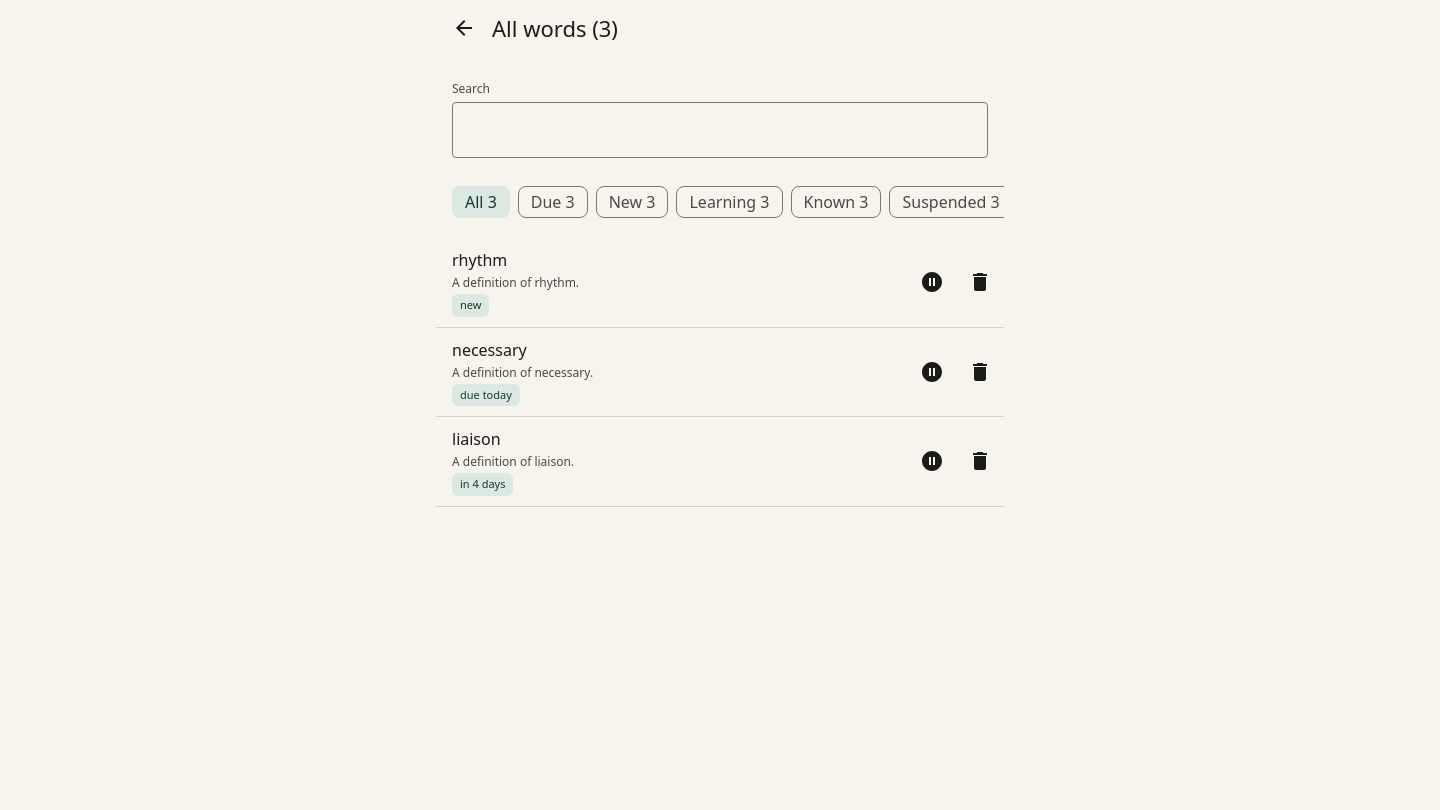
WordListContent › delete asks first, then deletes
Click the 1st button named "Delete word" at [980, 282], box [956, 258, 1004, 306]
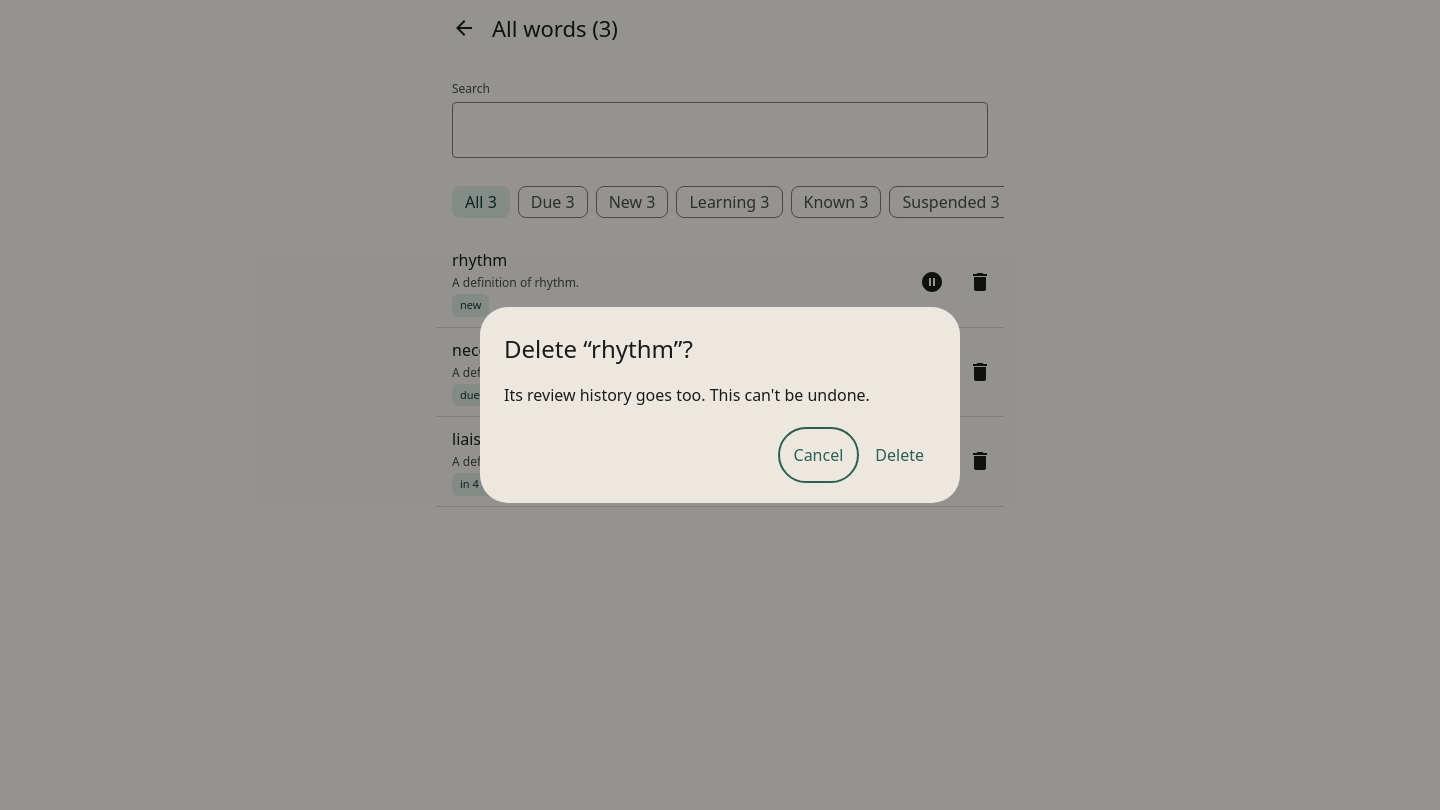
Expected: the heading "Delete “rhythm”?" is shown, [504, 332, 693, 365]
Expected: the text "Its review history goes too. This can't be undone." is shown, [504, 384, 870, 406]
Click the button "Delete" at [900, 455], box [863, 431, 936, 479]
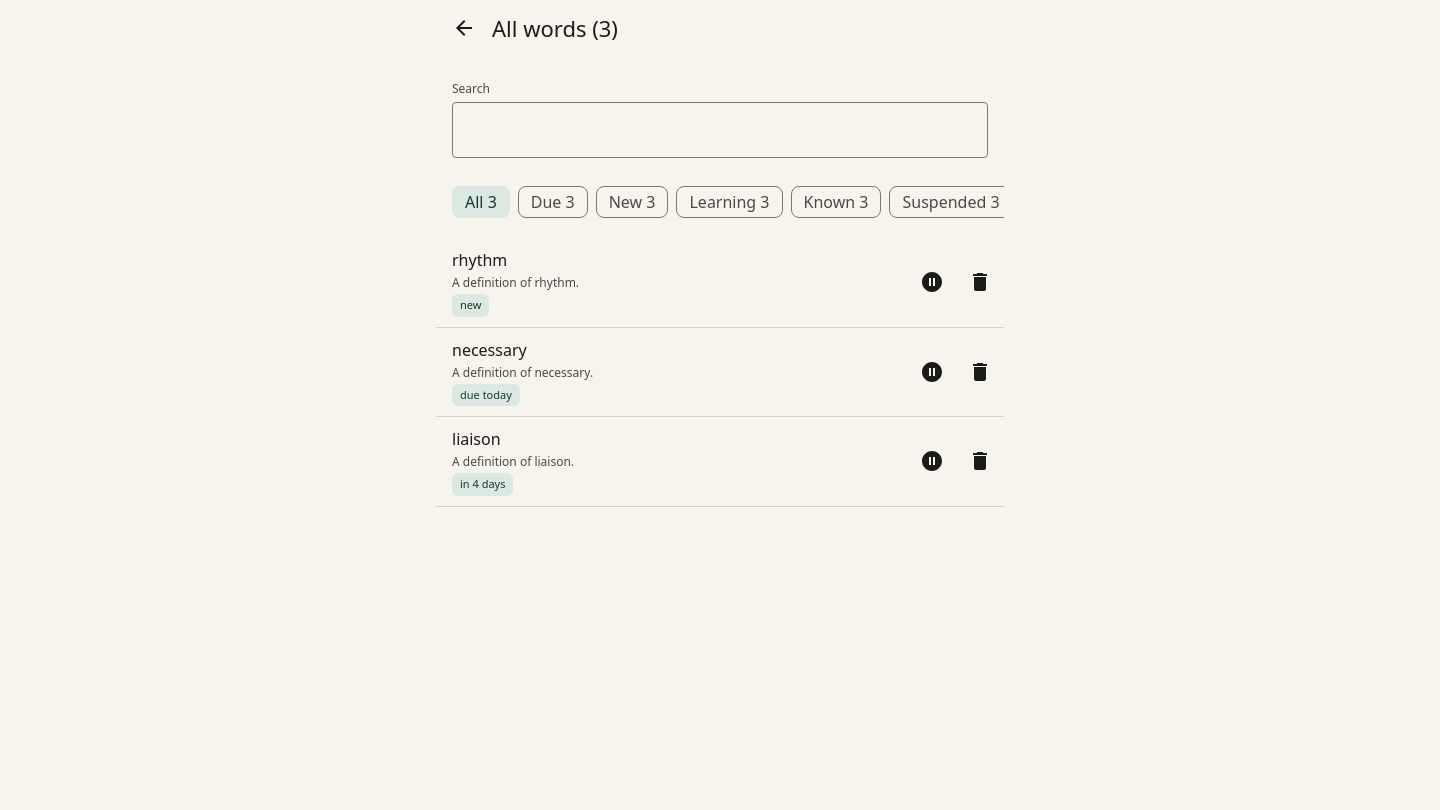
Expected: the heading "Delete “rhythm”?" is gone
